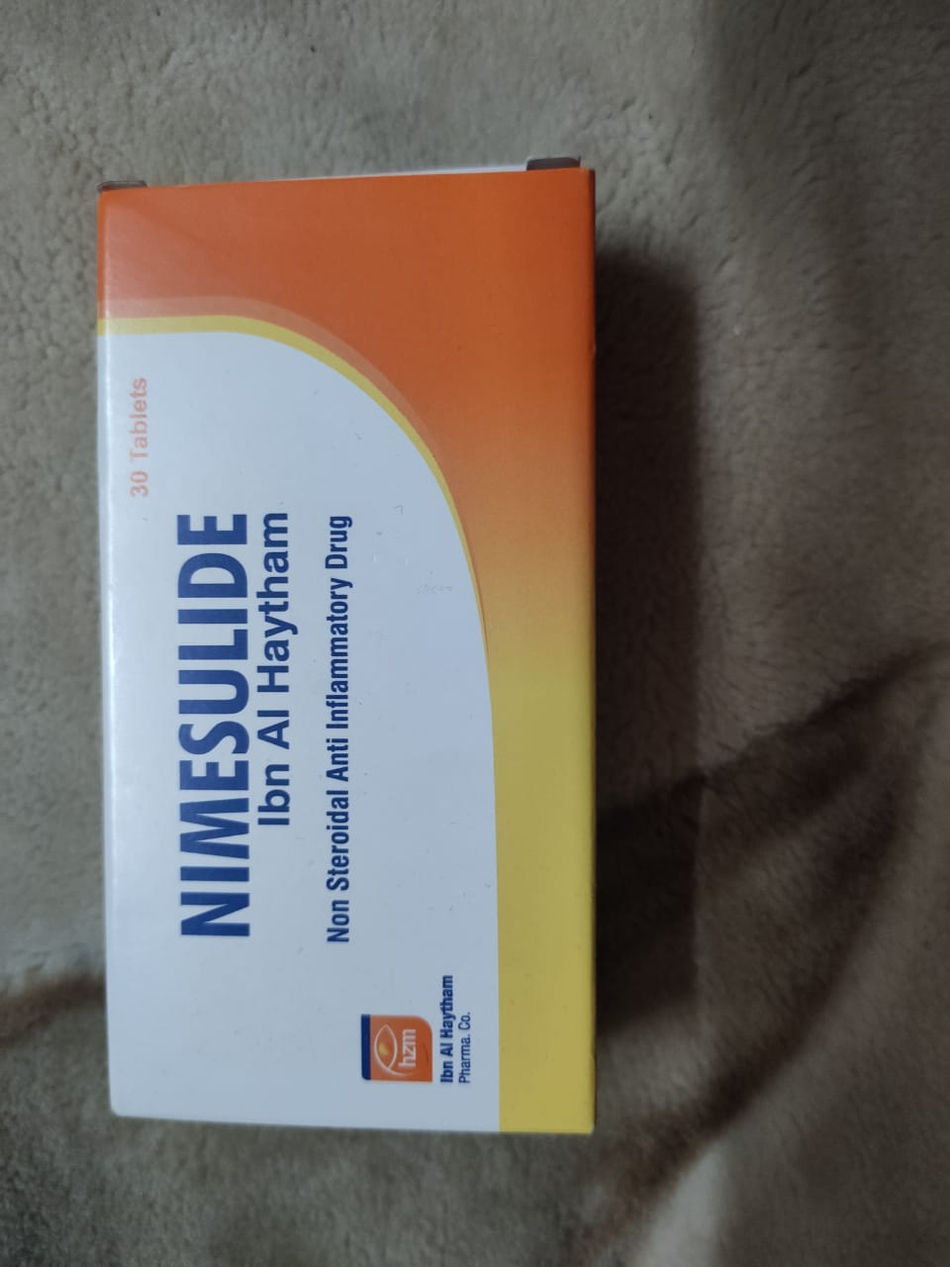Medicine: (79, 155, 610, 1142)
